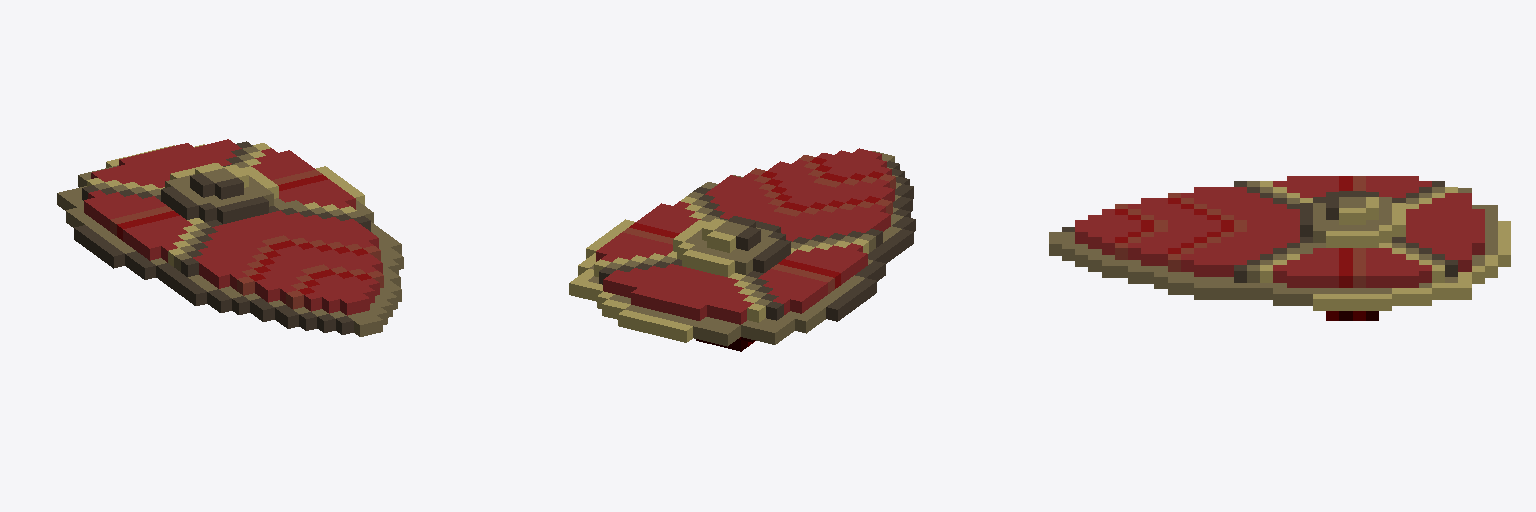
3 views of the same model, side by side, from view 1: azimuth 30°, elevation 25°; view 2: azimuth 150°, elevation 25°; view 3: azimuth 270°, elevation 25° (orthographic).
Visible parts, largest first — view 1: object 1; view 2: object 1; view 3: object 1.
Part boxes in pixels (bbox=[...]): object 1: bbox=[57, 139, 403, 336]; object 1: bbox=[569, 148, 915, 351]; object 1: bbox=[1049, 176, 1510, 320].
Size of the model in its own units: 2.2 by 0.9 by 3.5.
1 materials, 1 textured.